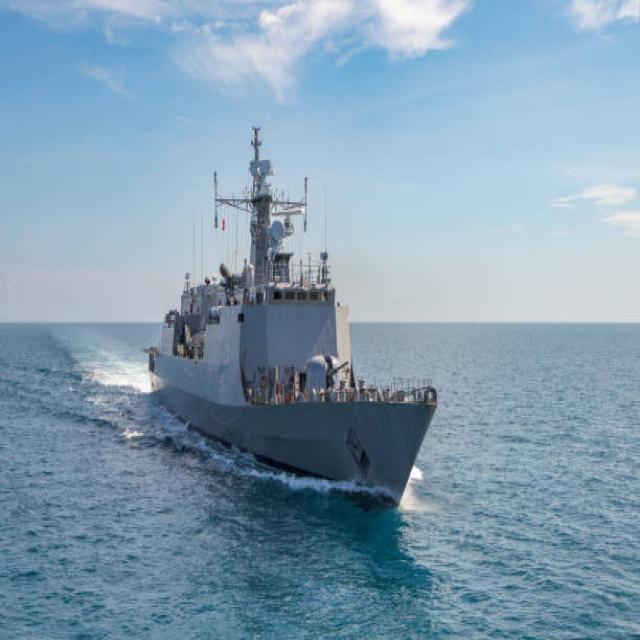Military: (146, 129, 440, 515)
